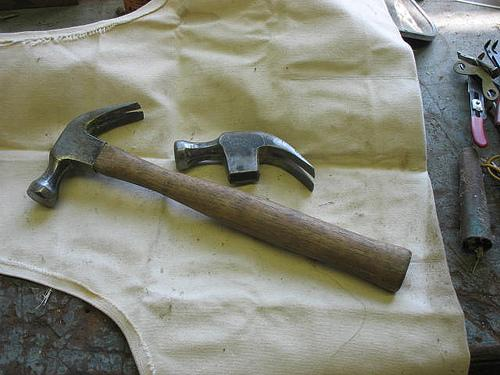hammer: (23, 100, 417, 296), (172, 128, 317, 194)
